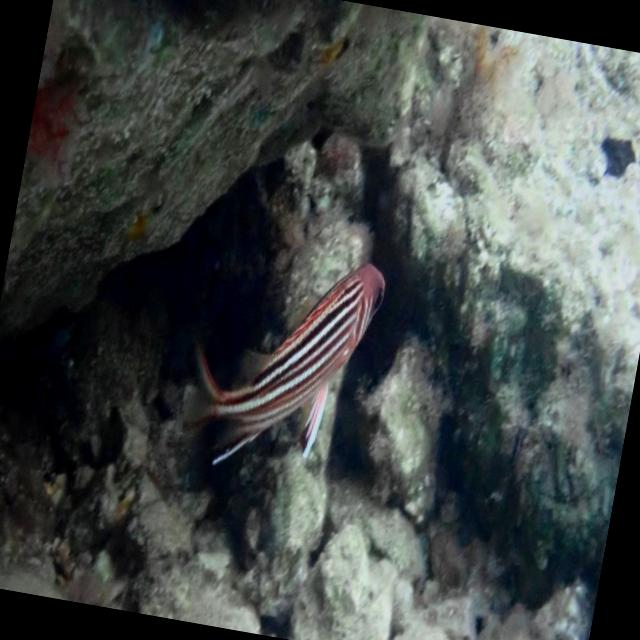Asker Baligi: (170, 230, 390, 490)
